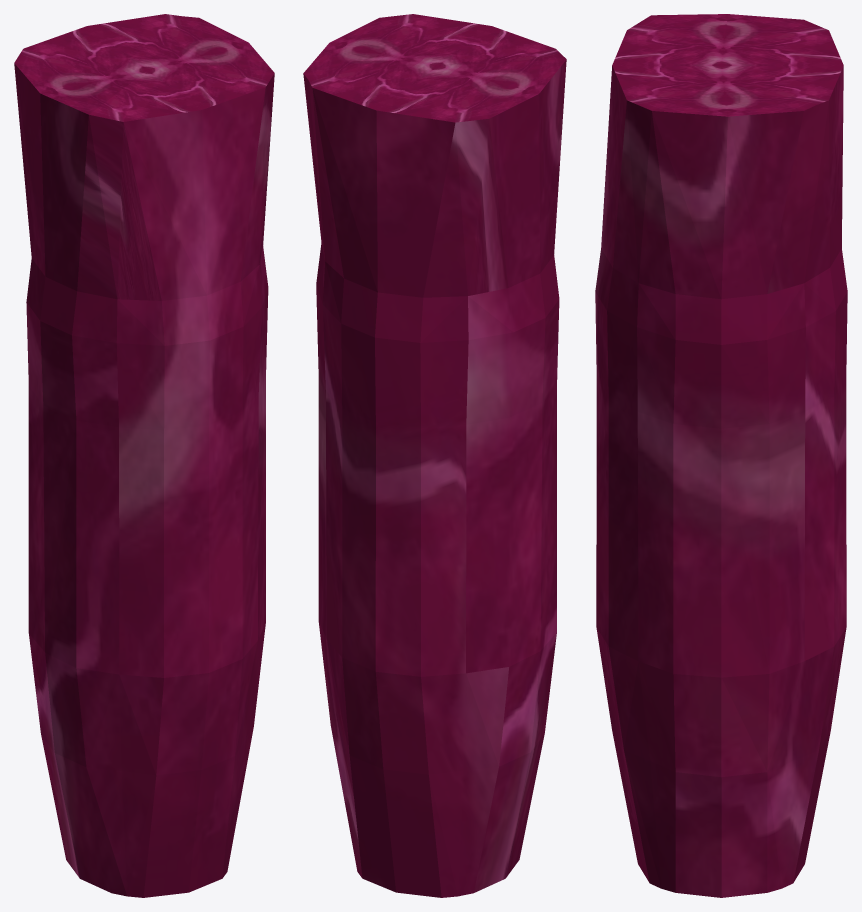
File: EspacioPornoColumnaInteriorBajoNI.gltf
3 renders of one model, left to right at view 1: azimuth 30°, elevation 25°; view 2: azimuth 150°, elevation 25°; view 3: azimuth 270°, elevation 25°, orthographic.
Visible parts, largest first — view 1: Cubo.44; view 2: Cubo.44; view 3: Cubo.44.
Part boxes in pixels (x1,y1,x2,y2): Cubo.44: [14, 14, 274, 897]; Cubo.44: [303, 14, 566, 897]; Cubo.44: [595, 14, 847, 897].
Bounding box in the file's own units: 0.5674 × 2 × 0.5698.
Materials: 1 (1 with a texture image).
